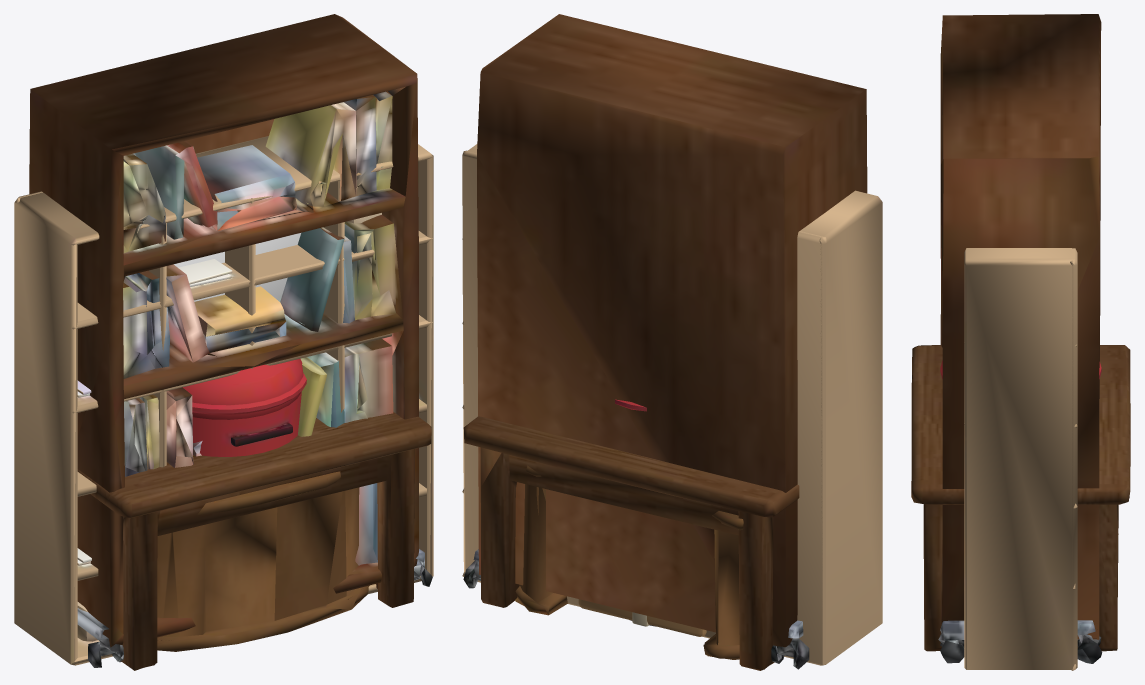
The model's file is office-props-floor-2.489b46a8.glb.
3 views of the same model, side by side, from view 1: azimuth 30°, elevation 25°; view 2: azimuth 150°, elevation 25°; view 3: azimuth 270°, elevation 25° (orthographic). The views are drawn at different scales.
Visible parts, largest first — view 1: tall-bookcase, mail-cubbies, reading-table, post-counter, mailbox, kanban-board; view 2: tall-bookcase, mail-cubbies, reading-table, post-counter, kanban-board, parcel-boxes; view 3: tall-bookcase, mail-cubbies, reading-table, kanban-board.
Boxes of the visible parts, <box> form: tall-bookcase: <box>29,14,418,647</box>; mail-cubbies: <box>14,136,433,665</box>; reading-table: <box>77,412,431,670</box>; post-counter: <box>157,471,369,651</box>; mailbox: <box>183,359,306,456</box>; kanban-board: <box>77,233,432,667</box>; tall-bookcase: <box>477,14,867,647</box>; mail-cubbies: <box>462,144,882,665</box>; reading-table: <box>463,416,799,670</box>; post-counter: <box>515,465,743,659</box>; kanban-board: <box>463,549,809,669</box>; parcel-boxes: <box>578,599,706,636</box>; tall-bookcase: <box>940,14,1101,647</box>; mail-cubbies: <box>964,248,1077,670</box>; reading-table: <box>911,345,1130,651</box>; kanban-board: <box>938,620,1102,663</box>.
Bounding box in the file's own units: 1.6 × 2.2 × 0.8694.
Materials: 10 (8 with a texture image).
